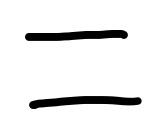eqv: (25, 30, 143, 109)
